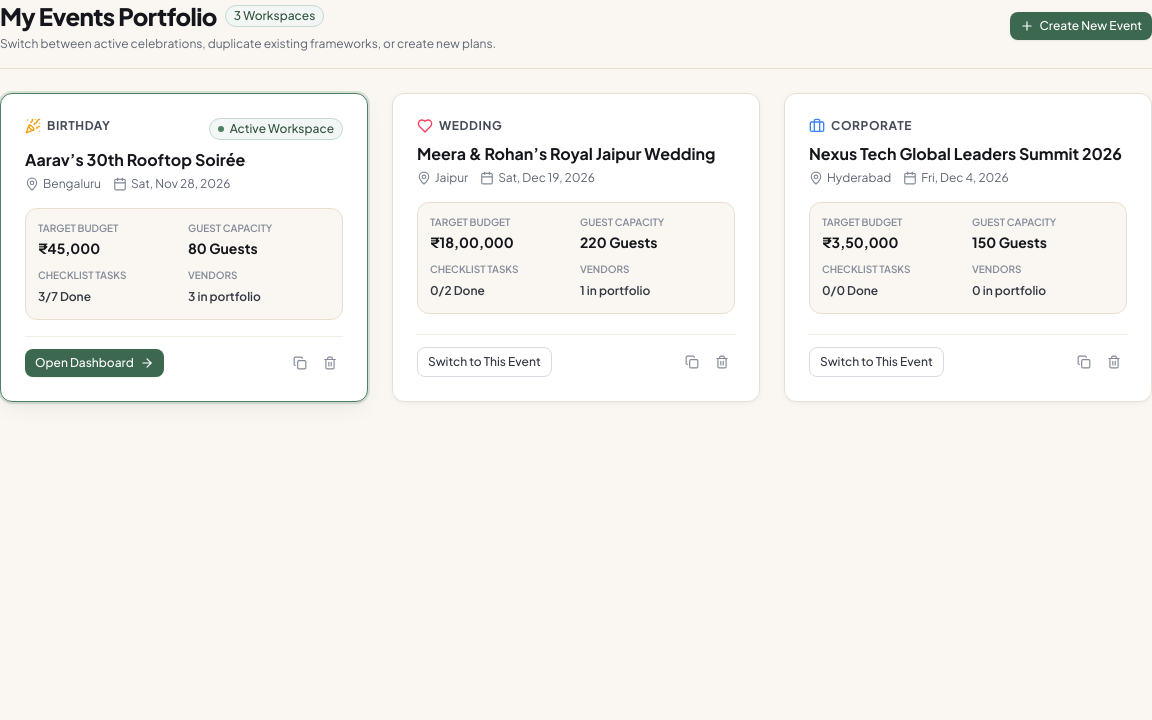
EventsPage Feature Tests › opens confirmation modal before deleting an event
// First duplicate so we have more than 1 event to safely delete
Click the button named "Duplicate" below "₹45,000": {"x": 300, "y": 363} [287, 350, 313, 376]
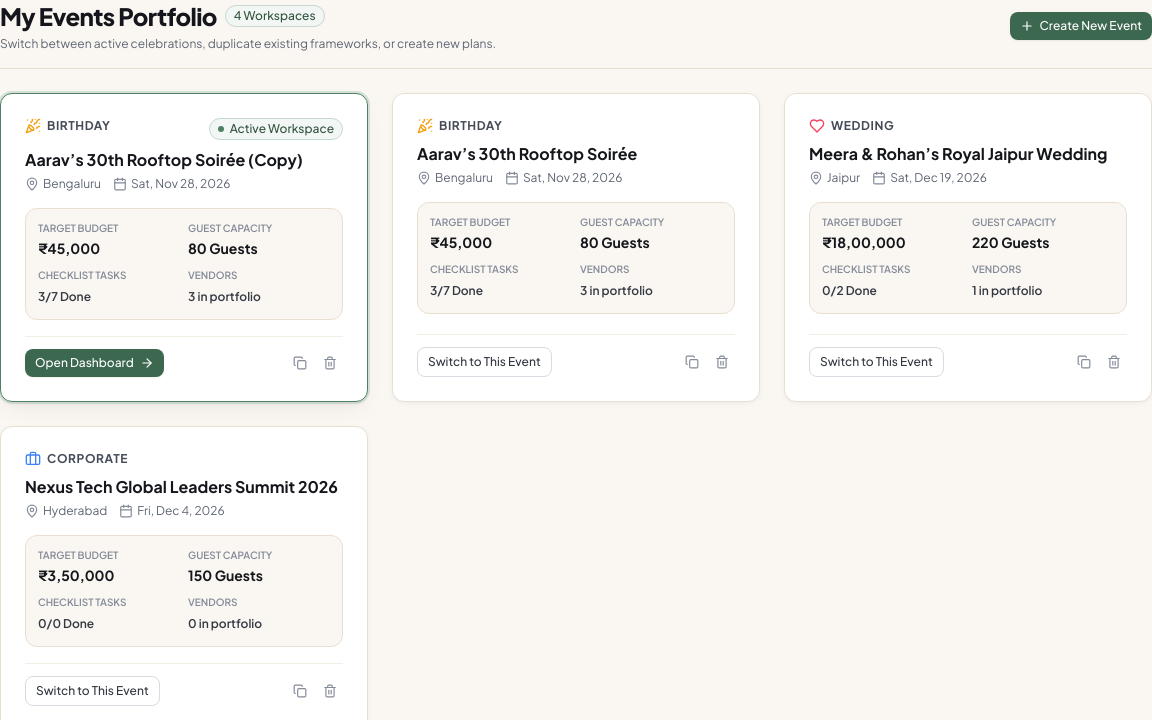
Click the button named "Delete" below "₹3,50,000": {"x": 330, "y": 691} [317, 678, 343, 704]
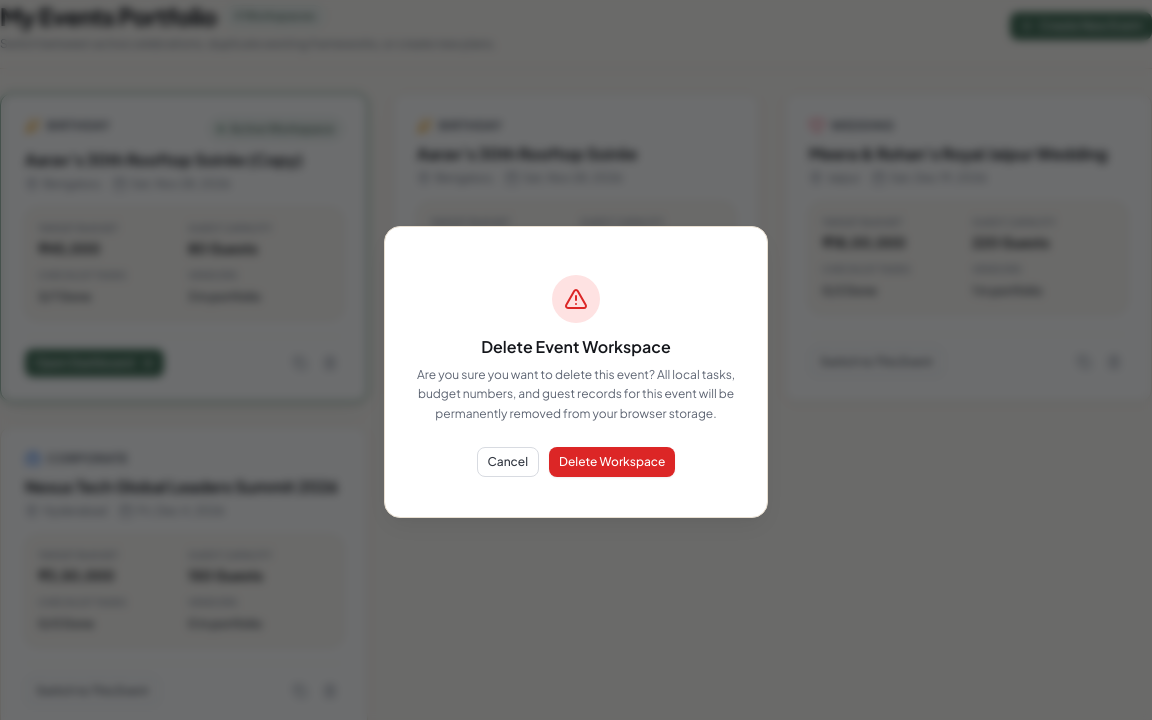
Now the heading "Delete Event Workspace" is shown, box [481, 336, 671, 357]
Now the text "Are you sure you want to delete this event?" is shown, box [417, 367, 735, 421]
